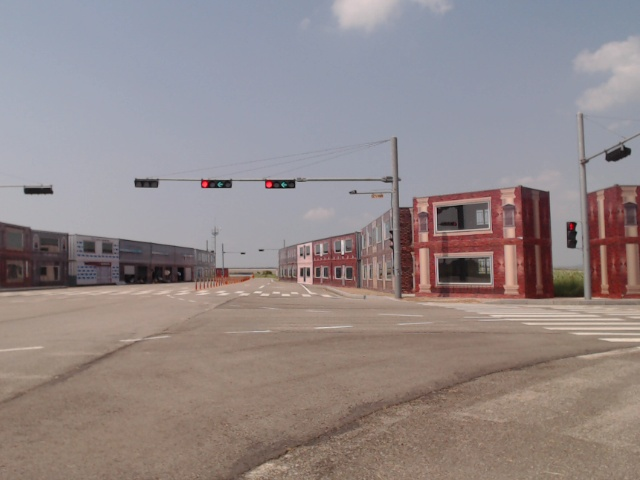left_green_4: (201, 180, 231, 188), (266, 180, 294, 188)
